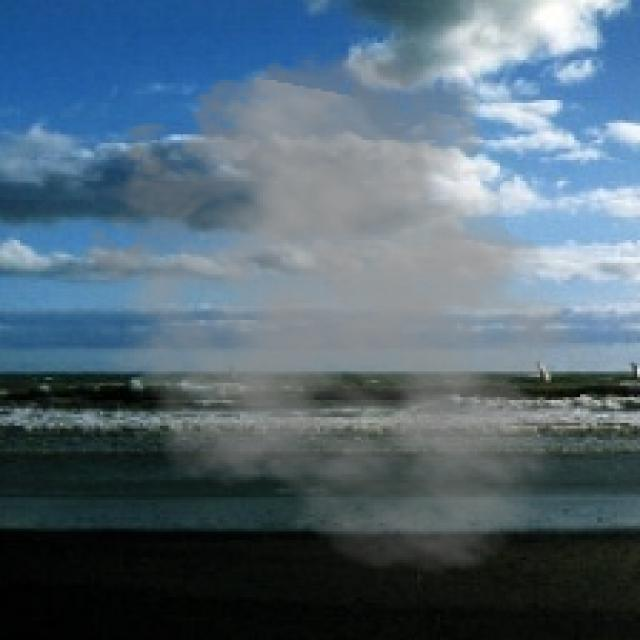smoke: (60, 37, 626, 577)
